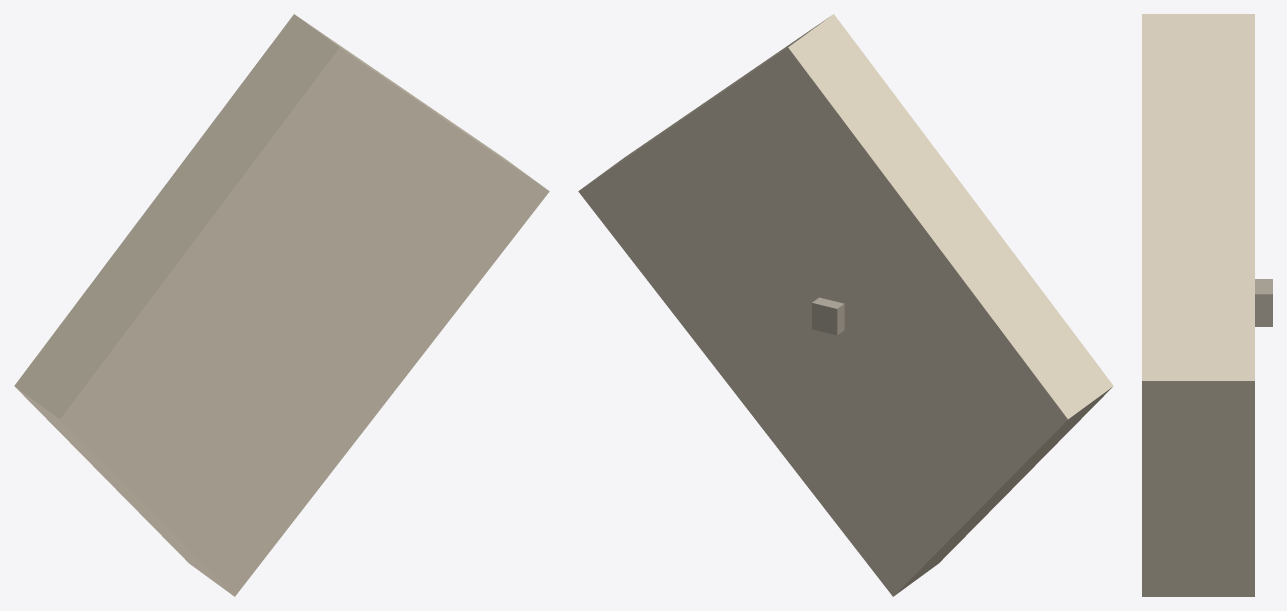
Rendered from historic-palestine-11_29_3526_3238.glb.
The picture shows the model from 3 angles, left to right: view 1: azimuth 30°, elevation 25°; view 2: azimuth 150°, elevation 25°; view 3: azimuth 270°, elevation 25°; orthographic projection. The views are drawn at different scales.
Parts seen in each view (by area): view 1: Building_; view 2: Building_, Roof access hut; view 3: Building_, Roof access hut.
Part boxes in pixels (<box>): Building_: <box>14,14,549,596</box>; Building_: <box>578,14,1113,596</box>; Roof access hut: <box>812,297,844,335</box>; Building_: <box>1142,14,1254,596</box>; Roof access hut: <box>1255,279,1272,326</box>.
Size of the model in its own units: 46.39 by 47.41 by 8.7.
